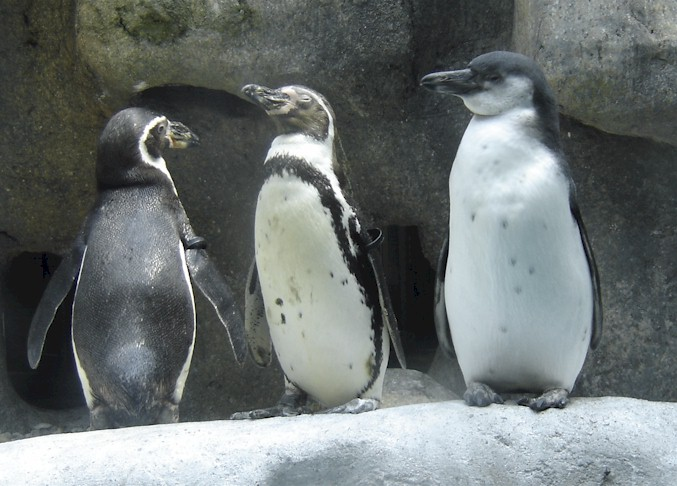penguin: (33, 108, 251, 420), (424, 51, 603, 405), (244, 80, 413, 421)
